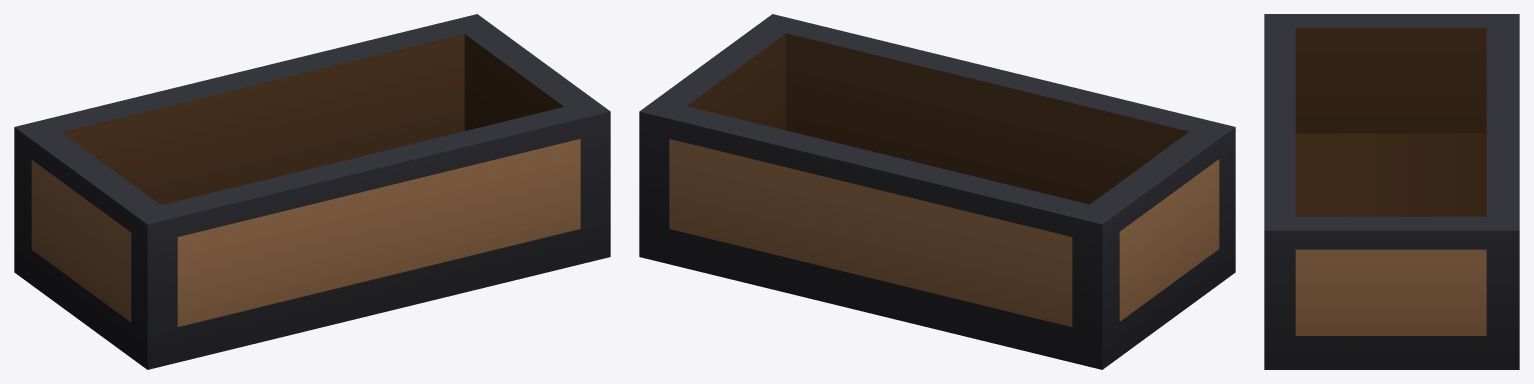
File: Chest_box.fbx
The picture shows the model from 3 angles, left to right: view 1: azimuth 30°, elevation 25°; view 2: azimuth 150°, elevation 25°; view 3: azimuth 270°, elevation 25°; orthographic projection. The views are drawn at different scales.
Parts seen in each view (by area): view 1: Chest_box; view 2: Chest_box; view 3: Chest_box.
Part boxes in pixels (box(x1,y1,x2,y2)): Chest_box: box(14, 14, 610, 369); Chest_box: box(639, 14, 1235, 369); Chest_box: box(1264, 14, 1519, 369).
Size of the model in its own units: 161 by 48.38 by 80.33.
1 material, 1 textured.
